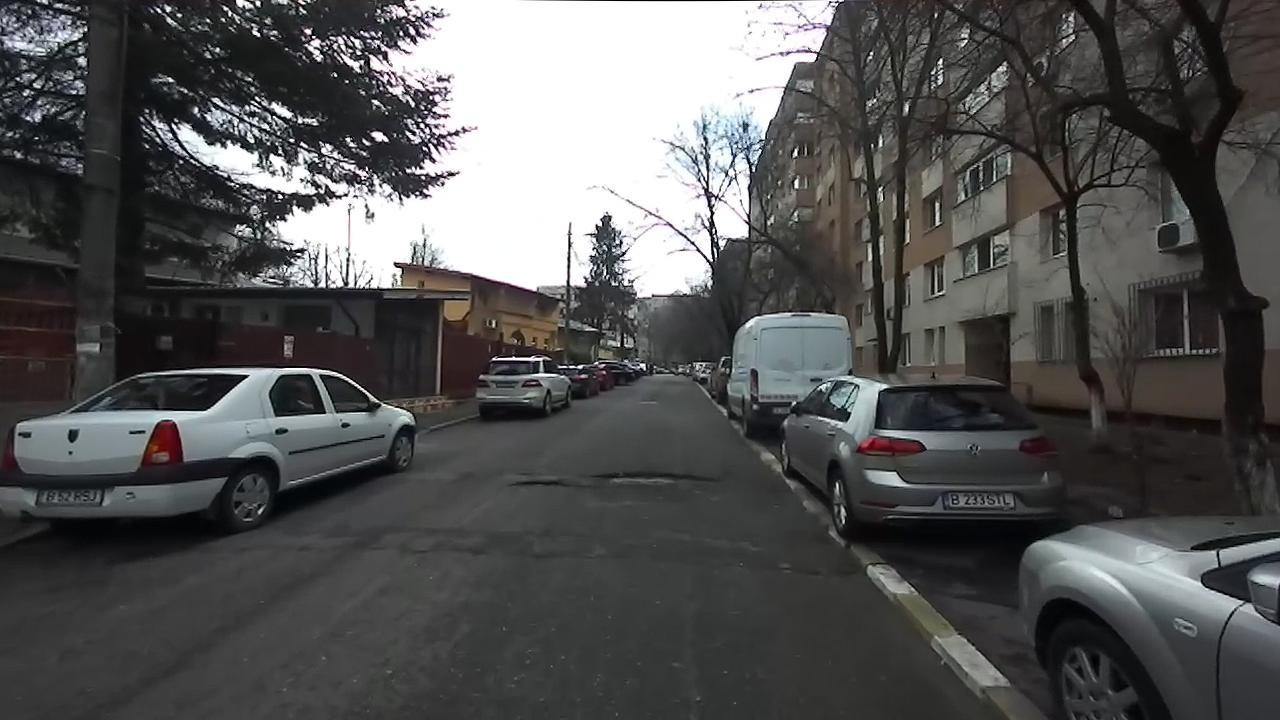pothole: (590, 469, 722, 489), (777, 559, 851, 583), (507, 475, 575, 487)
